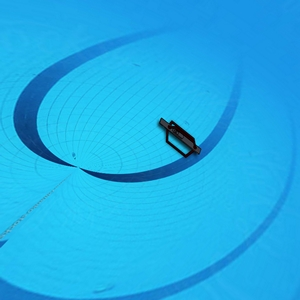submarine: (156, 111, 203, 159)
